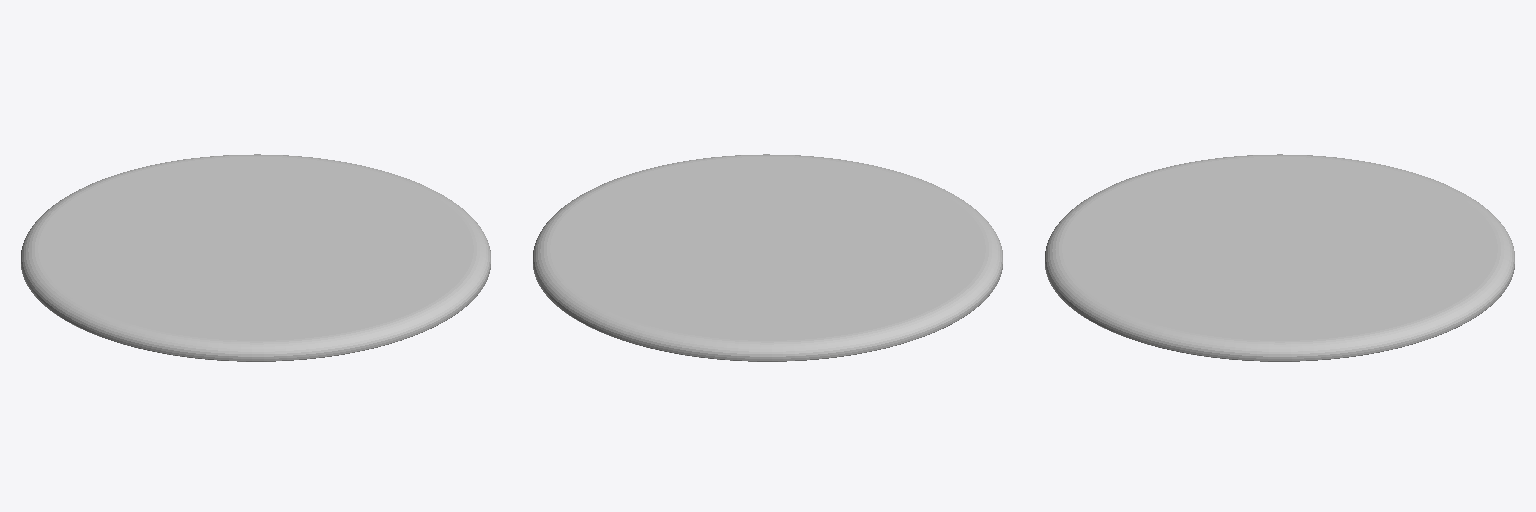
Rendered from trampoline.OBJ.
3 views of the same model, side by side, from view 1: azimuth 30°, elevation 25°; view 2: azimuth 150°, elevation 25°; view 3: azimuth 270°, elevation 25° (orthographic).
Bounding box in the file's own units: 300 × 10.05 × 300.